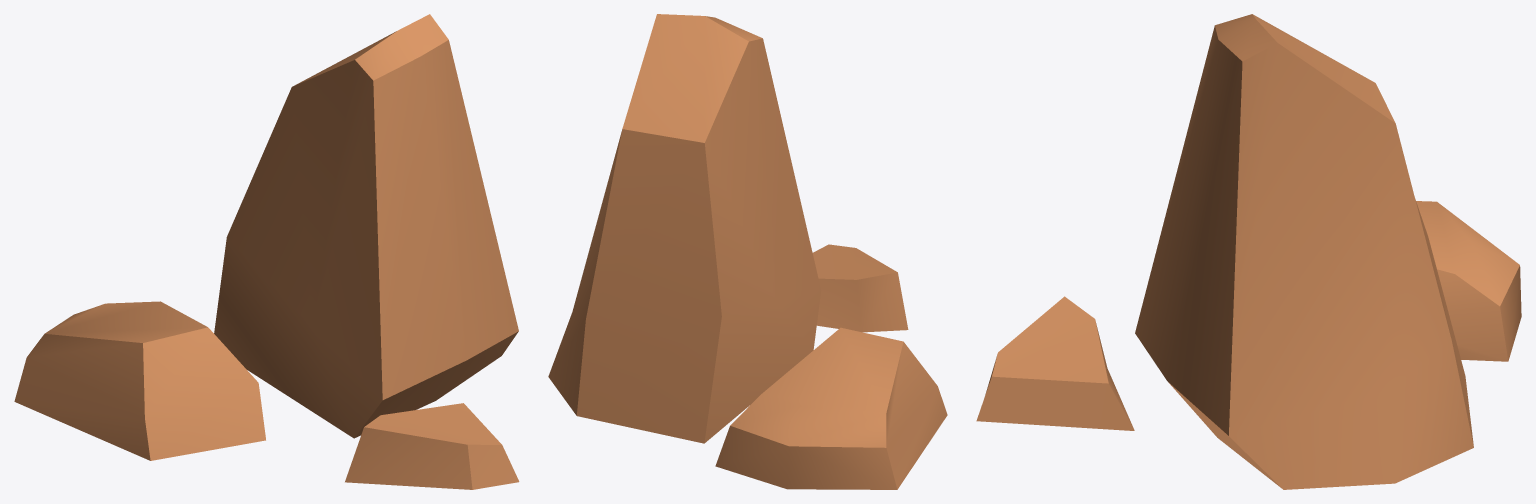
The model's file is rockbig2.fbx.
3 views of the same model, side by side, from view 1: azimuth 30°, elevation 25°; view 2: azimuth 150°, elevation 25°; view 3: azimuth 270°, elevation 25° (orthographic). The views are drawn at different scales.
Parts seen in each view (by area): view 1: rockbig2; view 2: rockbig2; view 3: rockbig2.
Part boxes in pixels (<box>): rockbig2: <box>14,14,519,489</box>; rockbig2: <box>548,14,947,489</box>; rockbig2: <box>976,14,1521,489</box>.
Size of the model in its own units: 185 by 158 by 190.
